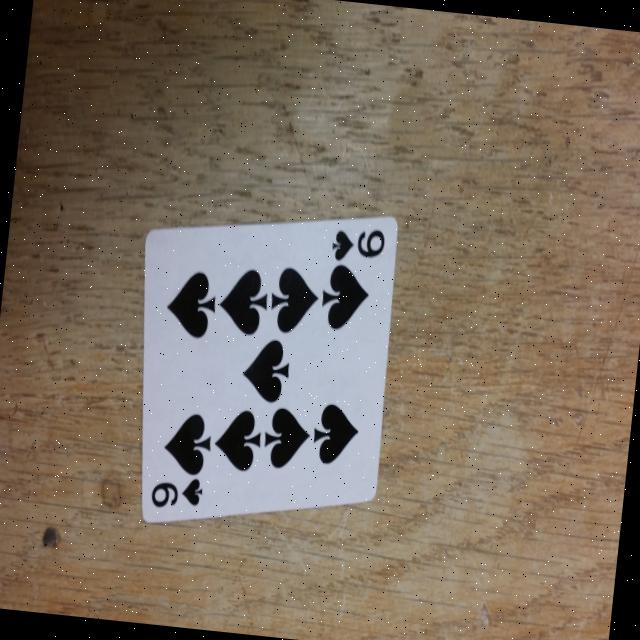9s: (324, 214, 388, 278), (144, 467, 207, 522)
